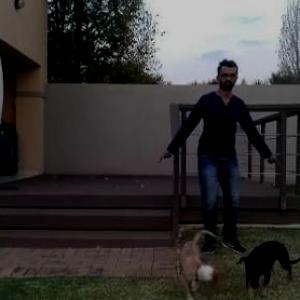land: (159, 62, 273, 259)
